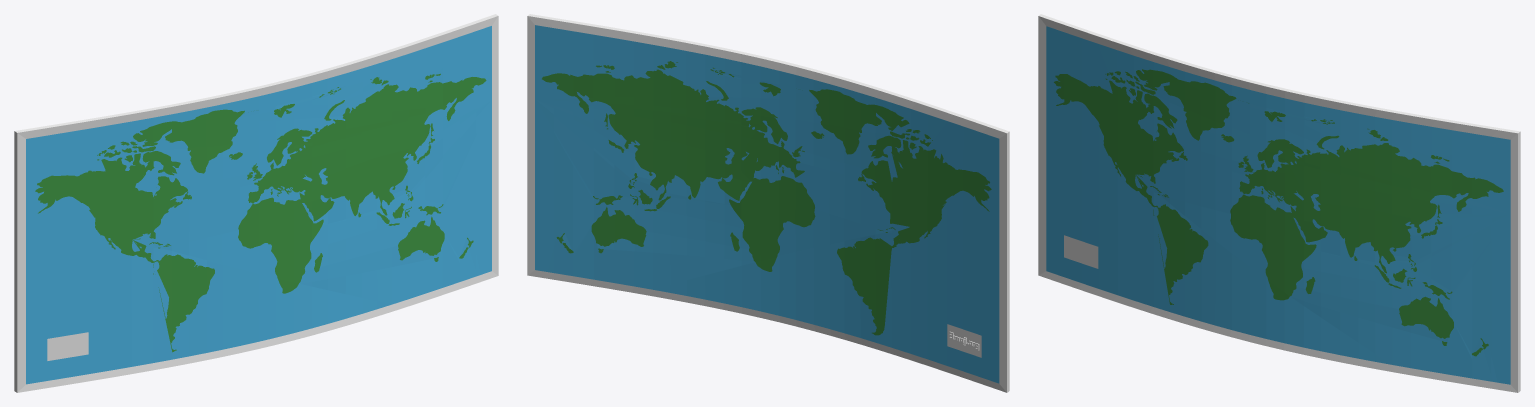
The model's file is world_map.fbx.
3 renders of one model, left to right at view 1: azimuth 30°, elevation 25°; view 2: azimuth 150°, elevation 25°; view 3: azimuth 330°, elevation 25°, orthographic.
Visible parts, largest first — view 1: Plane.223; view 2: Plane.223; view 3: Plane.223.
Part boxes in pixels (left/top/right/bottom): Plane.223: left=14, top=14, right=498, bottom=392; Plane.223: left=527, top=14, right=1009, bottom=392; Plane.223: left=1038, top=14, right=1520, bottom=392.
Size of the model in its own units: 220 by 114 by 14.29.
Materials: 1 (1 with a texture image).
